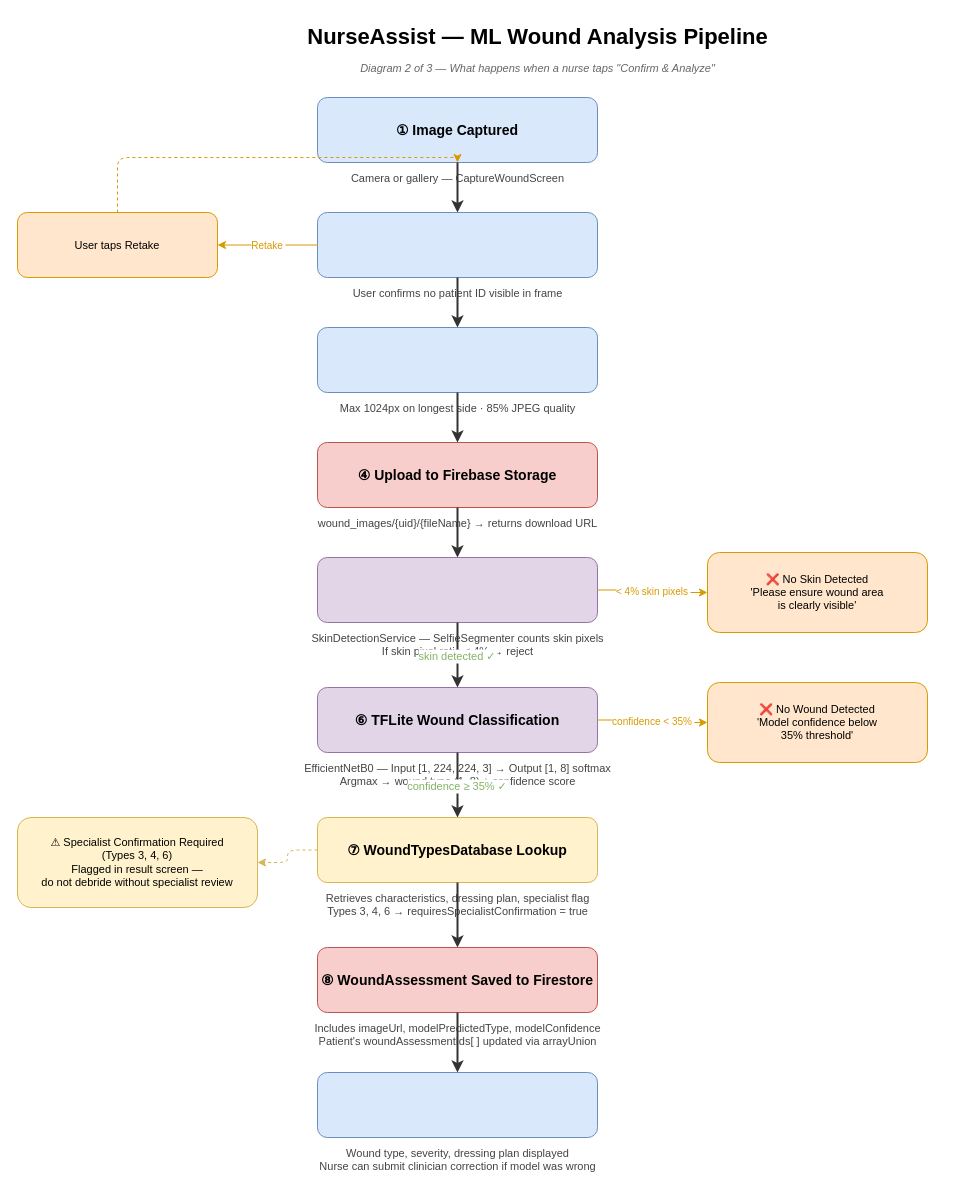
Image size: 955x1192. Some labels were removed from this diagram. The shapes that lost their labels are listed below. From the top down, each one's box as (x1, y1, x2, y2) in pixels, then its label:
(316, 212, 598, 278): ② Privacy Confirmation Dialog
(316, 326, 598, 392): ③ Image Compressed
(316, 556, 598, 622): ⑤ Skin Detection Gate (MediaPipe)
(316, 1072, 598, 1138): ⑨ AnalysisResultsScreen Shown
